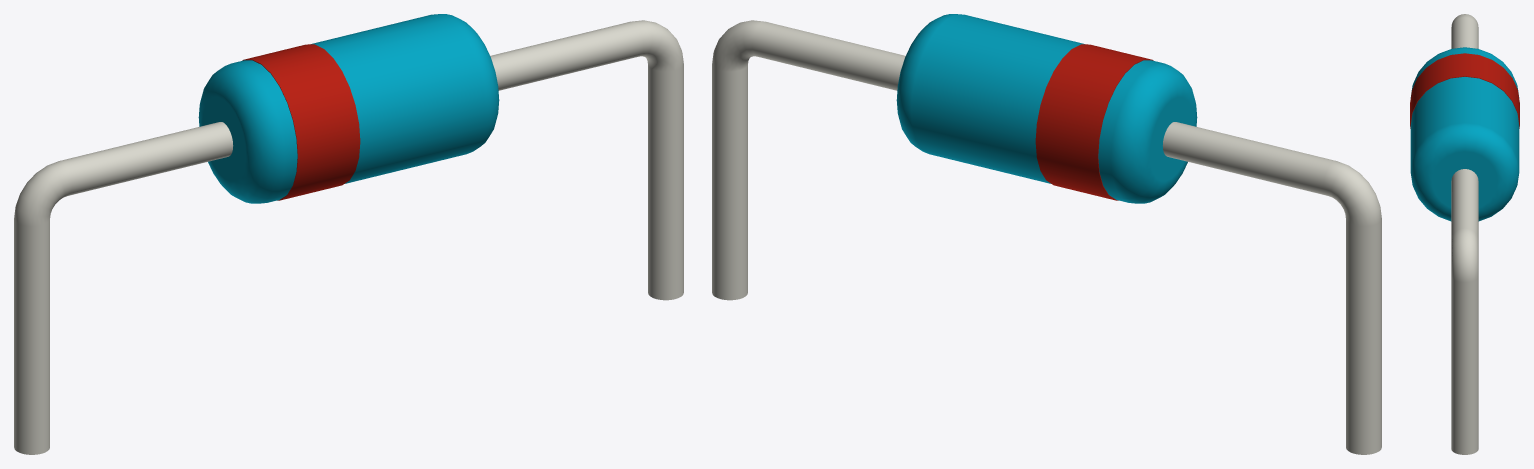
The model's file is Diode_THT__D_DO-35_SOD27_P10.16mm_Horizontal.glb.
The picture shows the model from 3 angles, left to right: view 1: azimuth 30°, elevation 25°; view 2: azimuth 150°, elevation 25°; view 3: azimuth 270°, elevation 25°; orthographic projection. The views are drawn at different scales.
Visible parts, largest first — view 1: D_DO-35_SOD27_P10.16mm_Horizontal; view 2: D_DO-35_SOD27_P10.16mm_Horizontal; view 3: D_DO-35_SOD27_P10.16mm_Horizontal.
Boxes of the visible parts, bbox=[...] form: D_DO-35_SOD27_P10.16mm_Horizontal: bbox=[14, 14, 683, 454]; D_DO-35_SOD27_P10.16mm_Horizontal: bbox=[712, 14, 1381, 454]; D_DO-35_SOD27_P10.16mm_Horizontal: bbox=[1410, 14, 1519, 454].
Bounding box in the file's own units: 0.0107 × 0.00501 × 0.00202.
